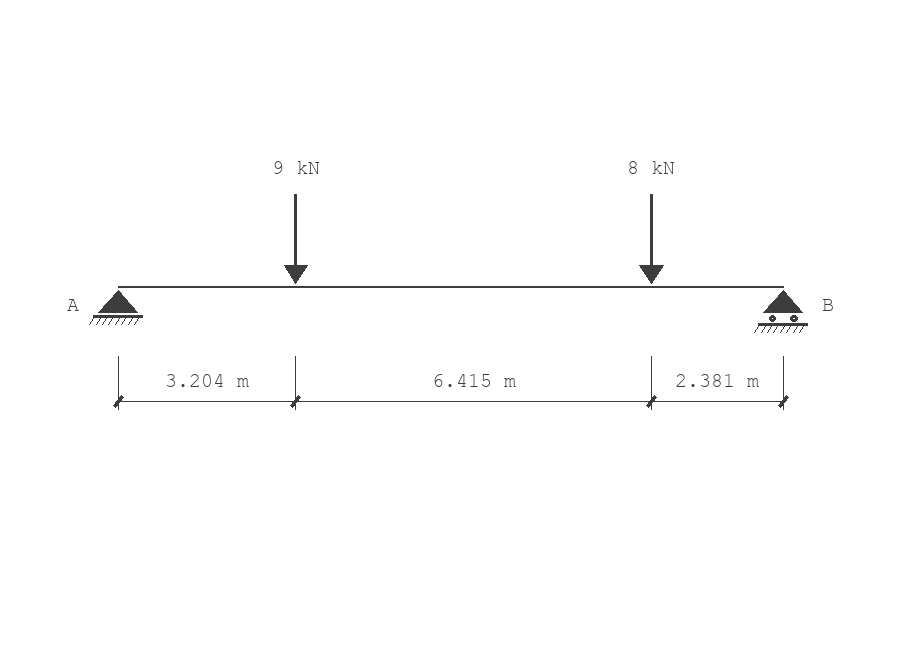pin_support: (89, 290, 143, 325)
point_load: (639, 194, 664, 284), (284, 194, 308, 284)
roller_support: (754, 290, 808, 333)
